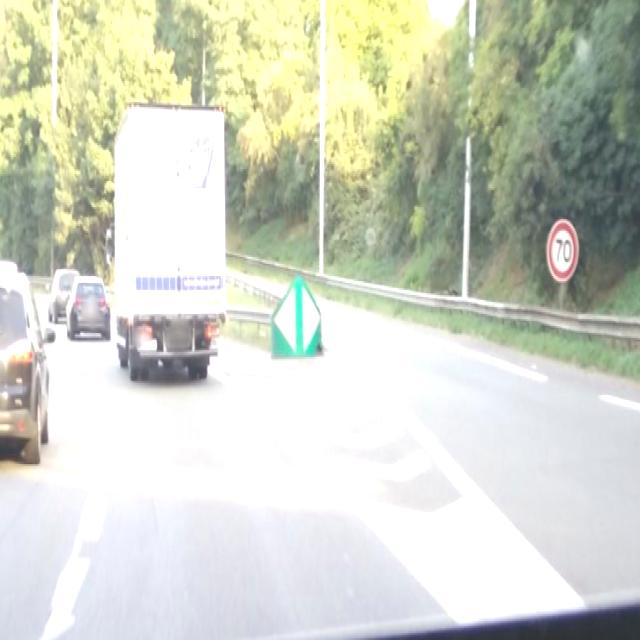speed_70: (548, 220, 577, 280)
